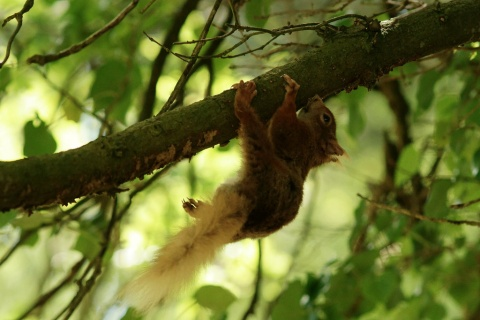Squirrel: (110, 76, 351, 316)
